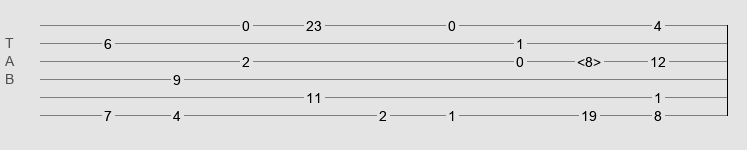0: (242, 18, 250, 28), (448, 18, 456, 28), (516, 54, 524, 64)
1: (448, 108, 456, 118), (516, 36, 524, 46), (654, 90, 662, 100)
11: (306, 90, 322, 100)
12: (650, 54, 666, 64)
19: (581, 108, 597, 118)
2: (242, 54, 250, 64), (379, 108, 387, 118)
23: (306, 18, 322, 28)
4: (173, 108, 181, 118), (654, 18, 662, 28)
6: (104, 36, 112, 46)
7: (104, 108, 112, 118)
8: (654, 108, 662, 118)
9: (173, 72, 181, 82)
harmonic: (577, 54, 601, 64)
